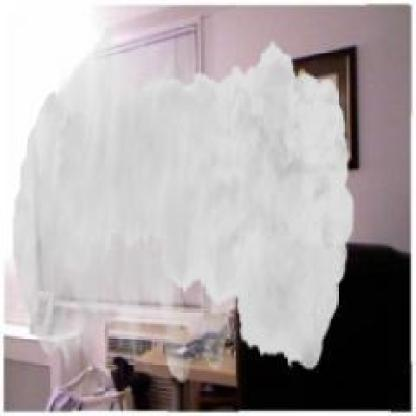Smoke: (13, 27, 354, 382)
